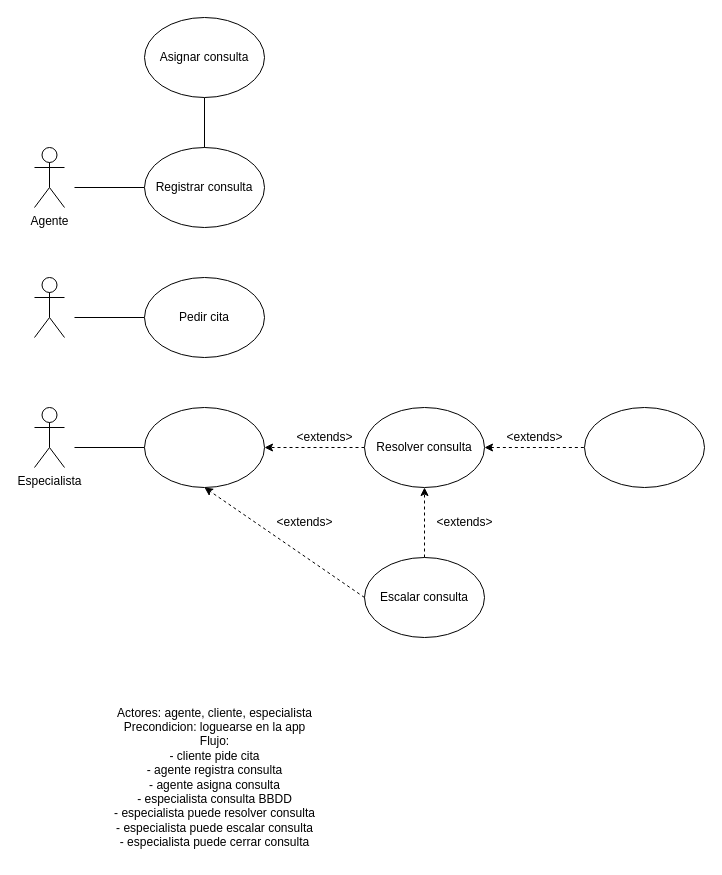
Some shapes in this 722 by 875 pixel diagram are drawn without their labels. The shapes that lost their labels are listed below. From the top down, each one's centre as x and y in pixels, then its label:
the point at 49,307: Cliente
the point at 204,447: Consultar BBDD
the point at 644,447: Cerrar consulta
